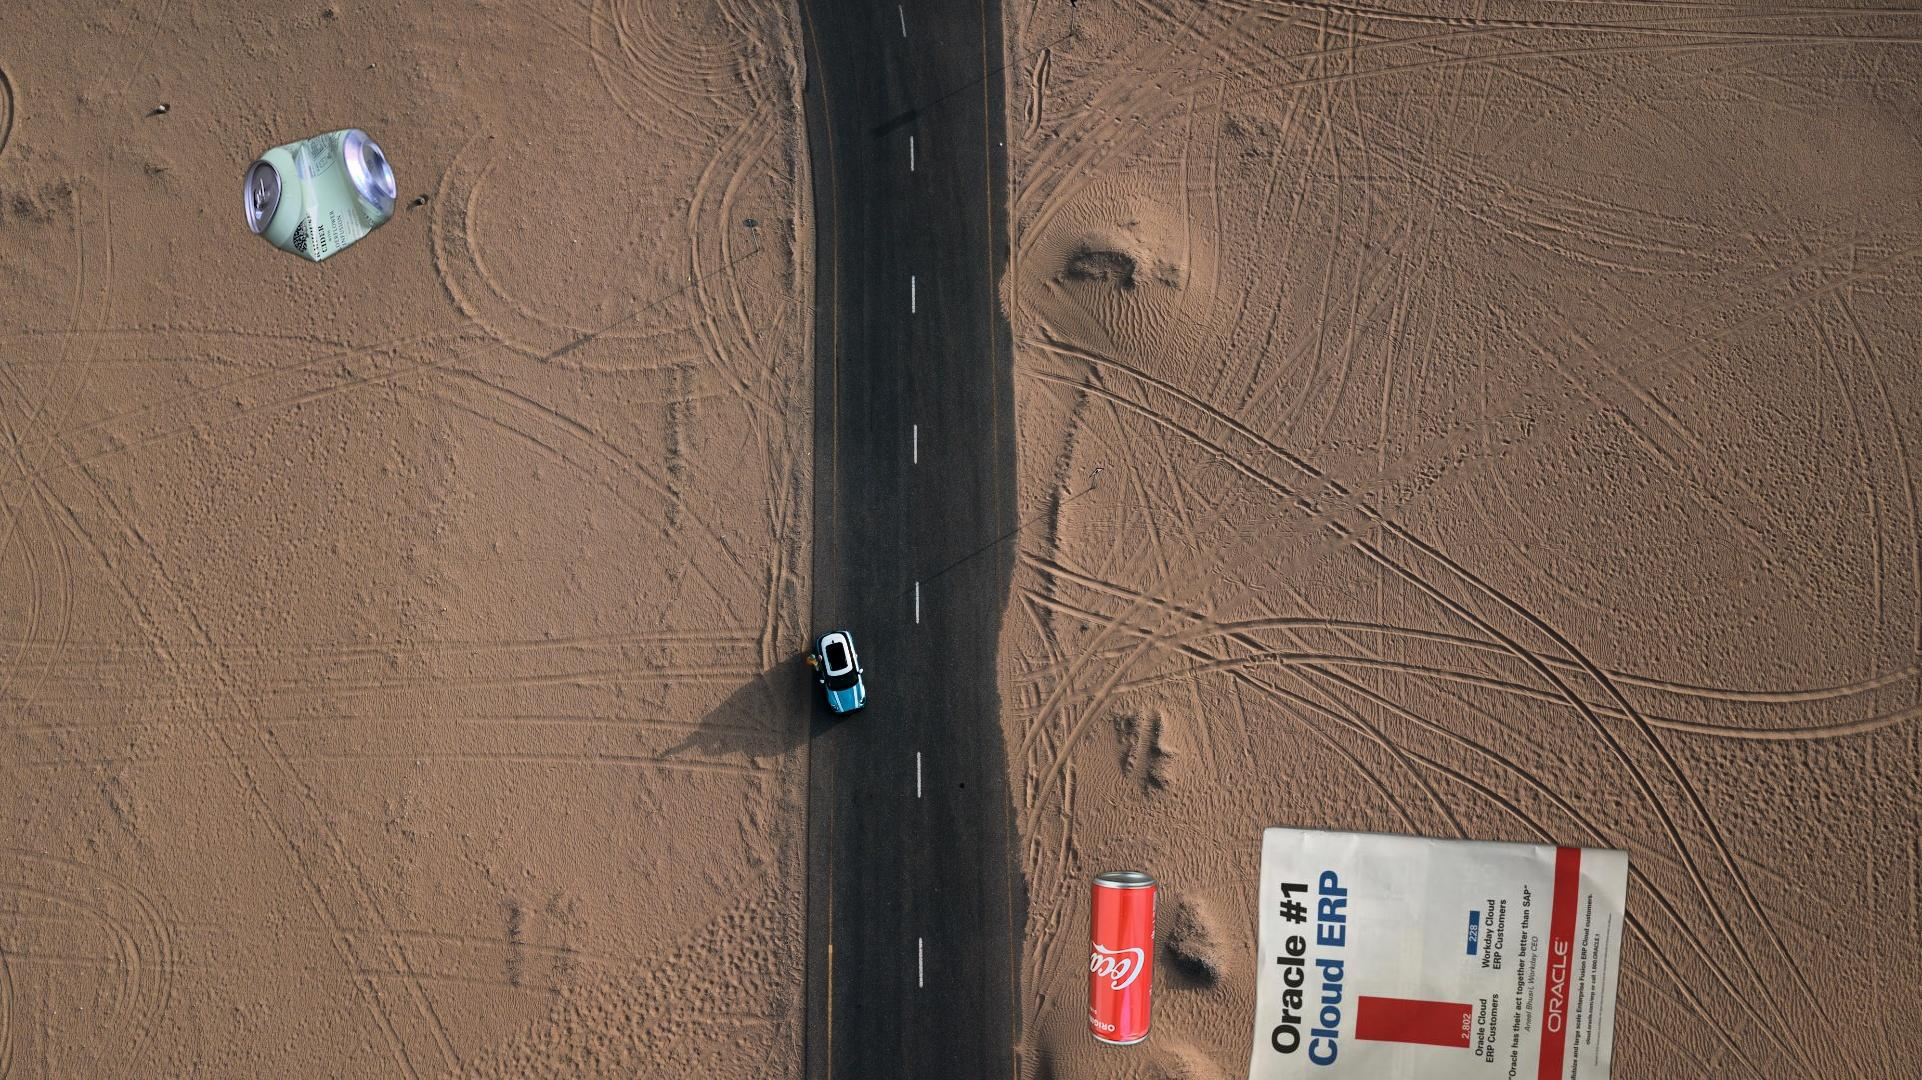biological: (1901, 621, 1922, 790)
metal-cans: (239, 122, 401, 269), (1083, 864, 1162, 1051)
paper: (1242, 821, 1635, 1080)
